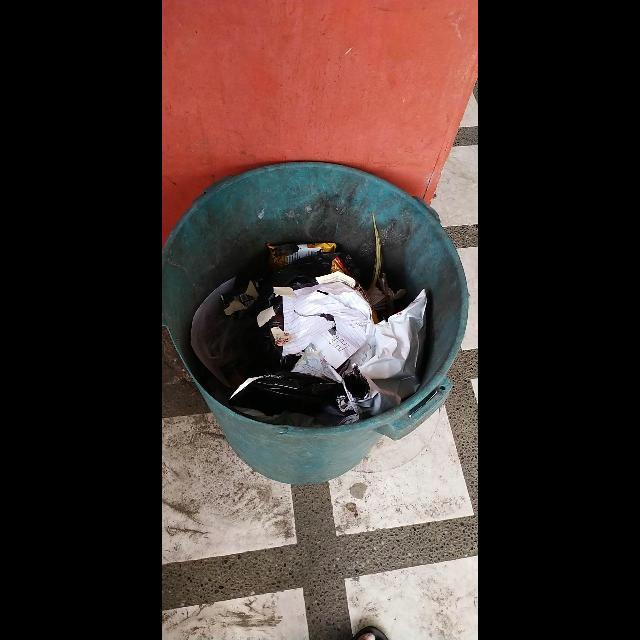food_wrapper: (267, 242, 337, 272)
paper: (283, 282, 375, 369), (191, 277, 236, 387)
plastic_bag: (344, 289, 428, 414)
